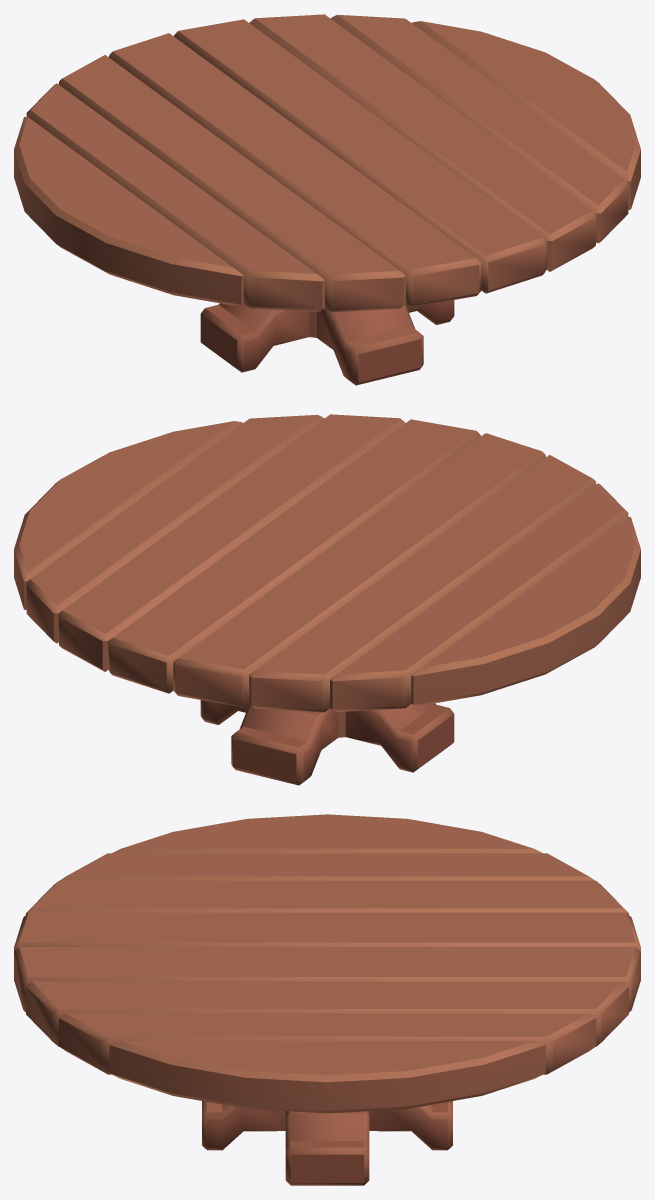
Rendered from table_round_large.glb.
3 renders of one model, top to bottom at view 1: azimuth 30°, elevation 25°; view 2: azimuth 150°, elevation 25°; view 3: azimuth 270°, elevation 25°, orthographic.
Visible parts, largest first — view 1: table_round_large; view 2: table_round_large; view 3: table_round_large.
Boxes of the visible parts, x1=… form: table_round_large: x1=14, y1=14, x2=640, y2=385; table_round_large: x1=14, y1=414, x2=640, y2=785; table_round_large: x1=14, y1=814, x2=640, y2=1185.
Bounding box in the file's own units: 3 × 0.9999 × 2.99.
1 material, 1 textured.
